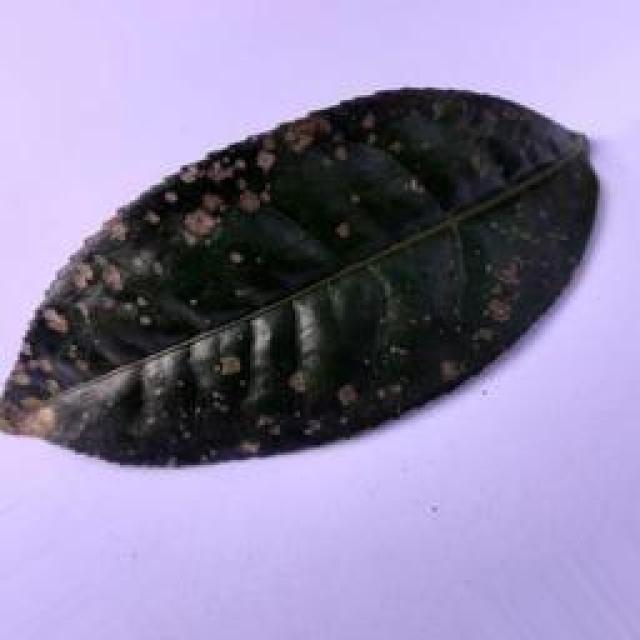Algal Leaf Spot: (2, 77, 640, 476)
